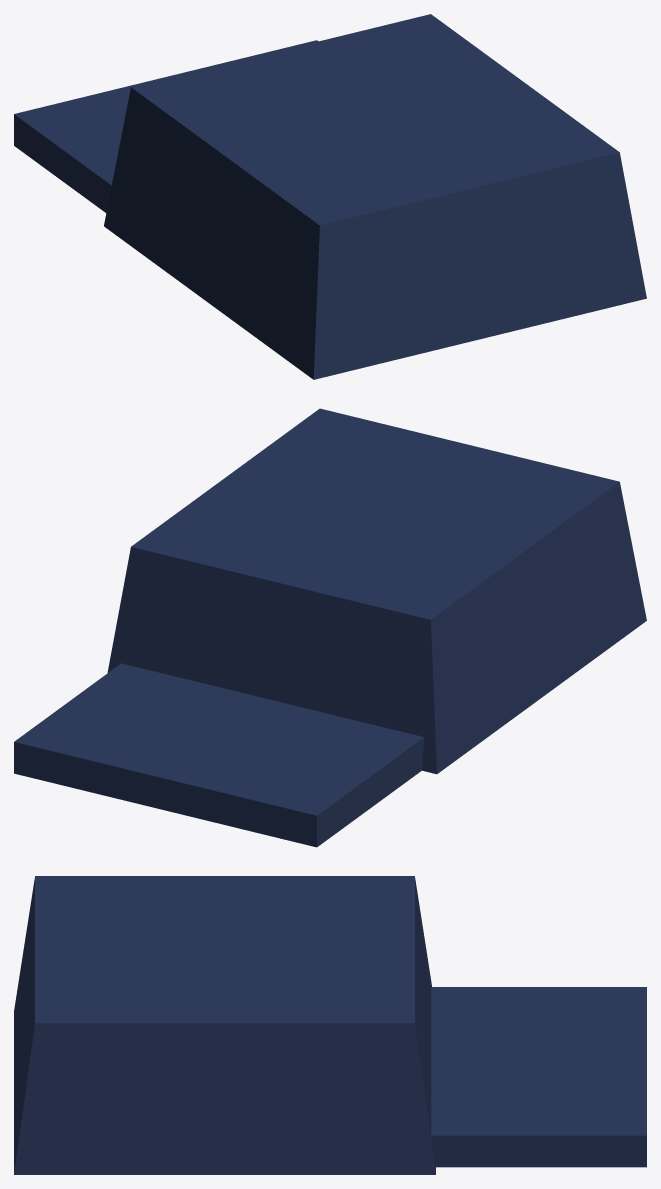
Rendered from acc_cap.glb.
The picture shows the model from 3 angles, top to bottom: view 1: azimuth 30°, elevation 25°; view 2: azimuth 150°, elevation 25°; view 3: azimuth 270°, elevation 25°; orthographic projection.
Parts seen in each view (by area): view 1: acc_cap__mesh; view 2: acc_cap__mesh; view 3: acc_cap__mesh.
Boxes of the visible parts, <box> form: acc_cap__mesh: <box>14,14,646,379</box>; acc_cap__mesh: <box>14,408,646,847</box>; acc_cap__mesh: <box>14,876,646,1174</box>.
Bounding box in the file's own units: 0.22 × 0.09 × 0.36.
